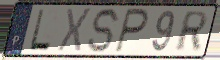9: (150, 10, 175, 53)
L: (27, 8, 52, 52)
P: (113, 7, 151, 55)
R: (172, 10, 210, 53)
S: (86, 7, 123, 55)
X: (55, 7, 93, 55)
